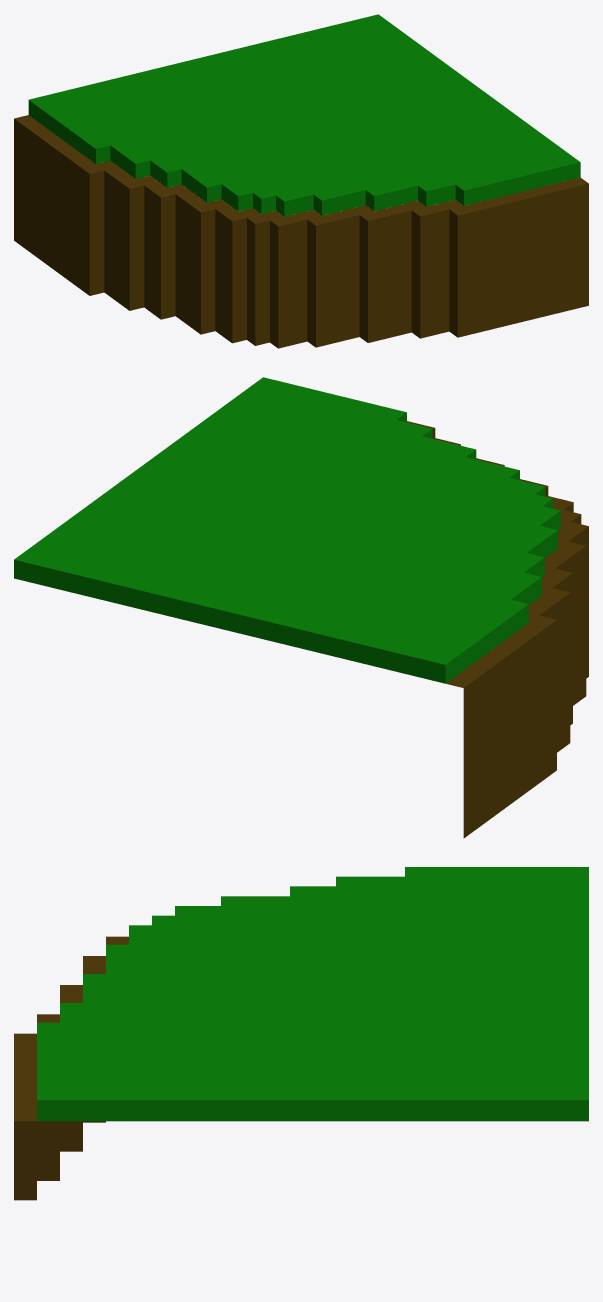
File: ground_end.fbx
The picture shows the model from 3 angles, top to bottom: view 1: azimuth 30°, elevation 25°; view 2: azimuth 150°, elevation 25°; view 3: azimuth 270°, elevation 25°; orthographic projection. The views are drawn at different scales.
Visible parts, largest first — view 1: Grass_Tile_Block40, Grass_Tile_Block29; view 2: Grass_Tile_Block29, Grass_Tile_Block40; view 3: Grass_Tile_Block29, Grass_Tile_Block40.
Boxes of the visible parts, x1,y1,x2,y2 form: Grass_Tile_Block40: [14, 115, 588, 348]; Grass_Tile_Block29: [28, 14, 580, 216]; Grass_Tile_Block29: [14, 377, 560, 683]; Grass_Tile_Block40: [407, 421, 588, 838]; Grass_Tile_Block29: [37, 867, 588, 1121]; Grass_Tile_Block40: [14, 936, 128, 1200].
Size of the model in its own units: 50 by 18 by 50.
